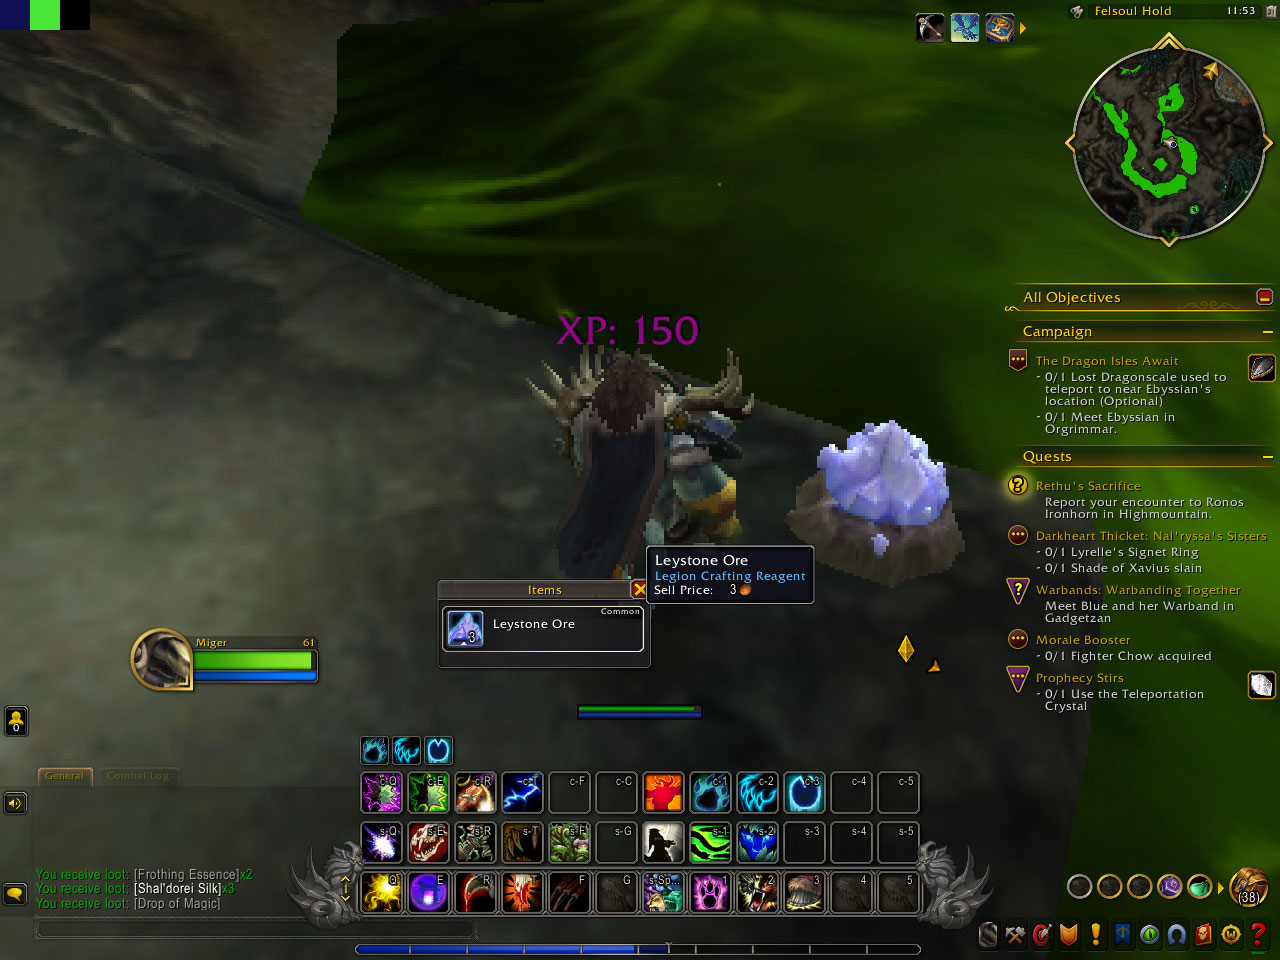ore: (788, 418, 968, 586)
